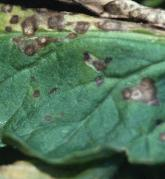Tomato Septoria leaf spot: (0, 0, 165, 170)
